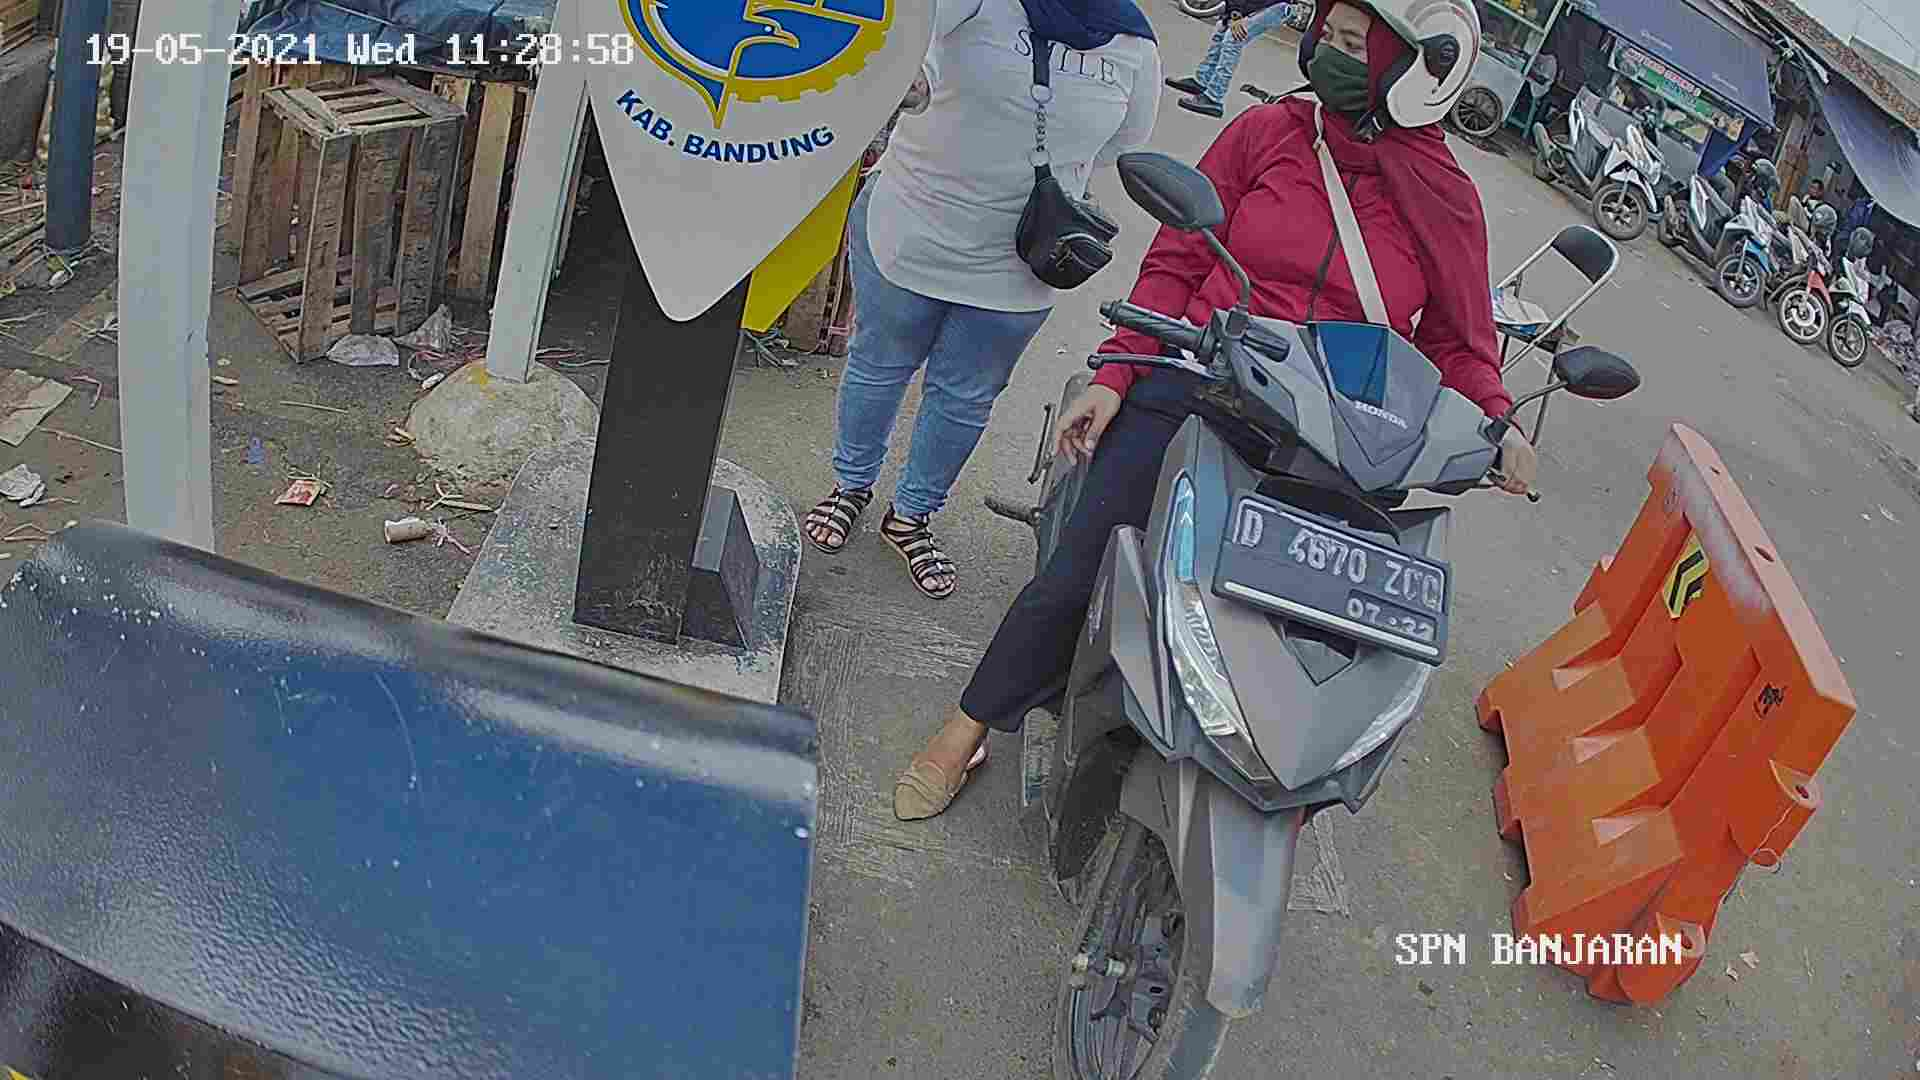motor: (1011, 301, 1470, 1069)
